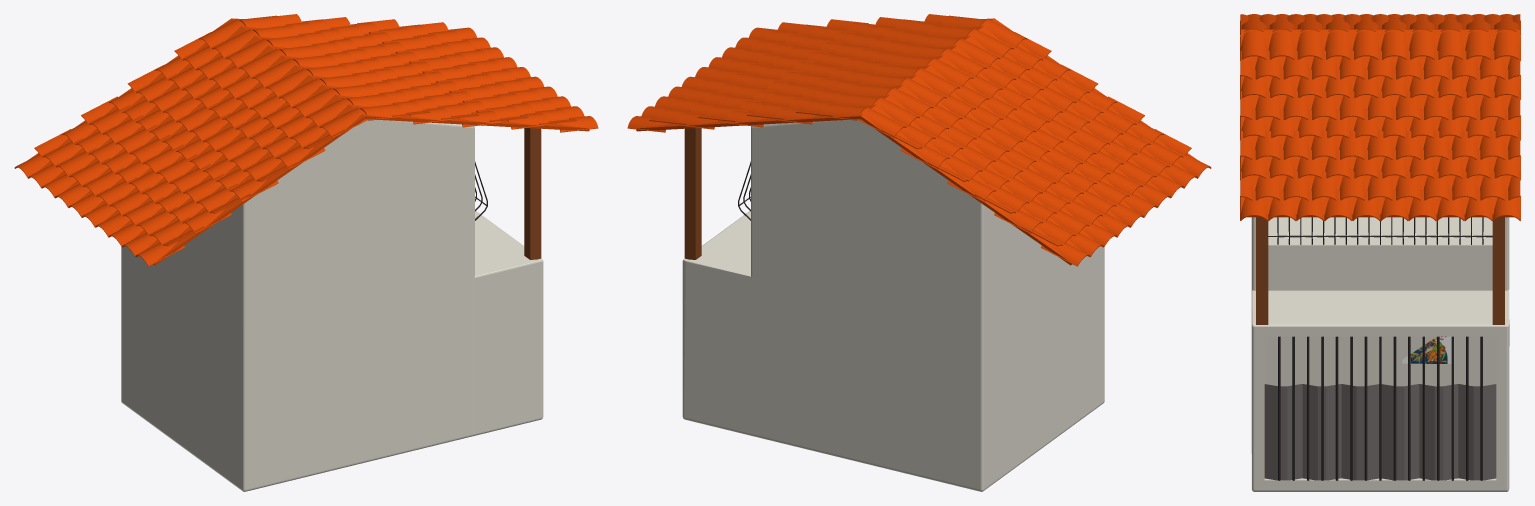
File: casas3.fbx
The picture shows the model from 3 angles, left to right: view 1: azimuth 30°, elevation 25°; view 2: azimuth 150°, elevation 25°; view 3: azimuth 270°, elevation 25°; orthographic projection. The views are drawn at different scales.
Parts seen in each view (by area): view 1: casa_3; view 2: casa_3; view 3: casa_3, Plane.002.
Boxes of the visible parts, <box> form: casa_3: <box>14,14,598,491</box>; casa_3: <box>627,14,1211,491</box>; casa_3: <box>1240,14,1520,491</box>; Plane.002: <box>1402,336,1454,363</box>.
Size of the model in its own units: 465 by 348 by 239.
